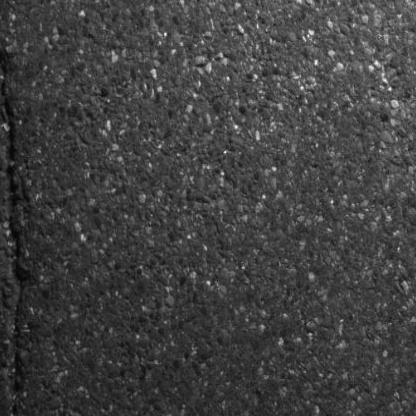Cracks: (0, 0, 39, 416)
